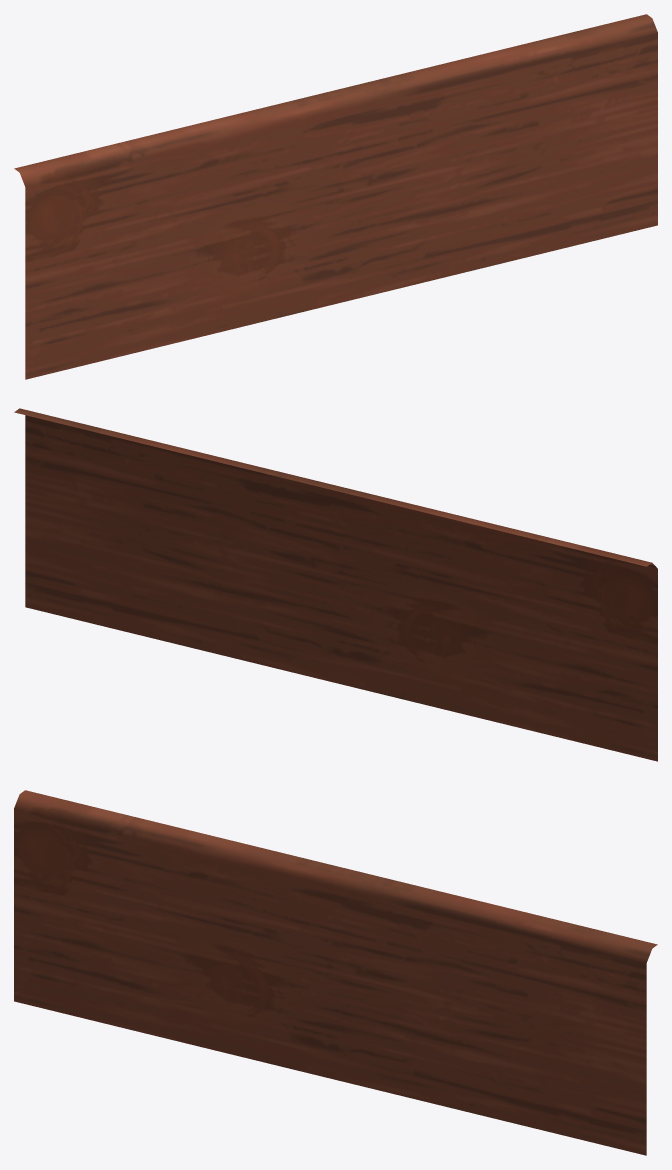
File: En_W_Woodtrim4.fbx
The picture shows the model from 3 angles, top to bottom: view 1: azimuth 30°, elevation 25°; view 2: azimuth 150°, elevation 25°; view 3: azimuth 330°, elevation 25°; orthographic projection.
Parts seen in each view (by area): view 1: En_W_Woodtrim4; view 2: En_W_Woodtrim4; view 3: En_W_Woodtrim4.
Part boxes in pixels (bbox=[...]): En_W_Woodtrim4: bbox=[14, 14, 657, 379]; En_W_Woodtrim4: bbox=[14, 408, 657, 761]; En_W_Woodtrim4: bbox=[14, 790, 657, 1155].
Size of the model in its own units: 200 by 61.33 by 6.13.
